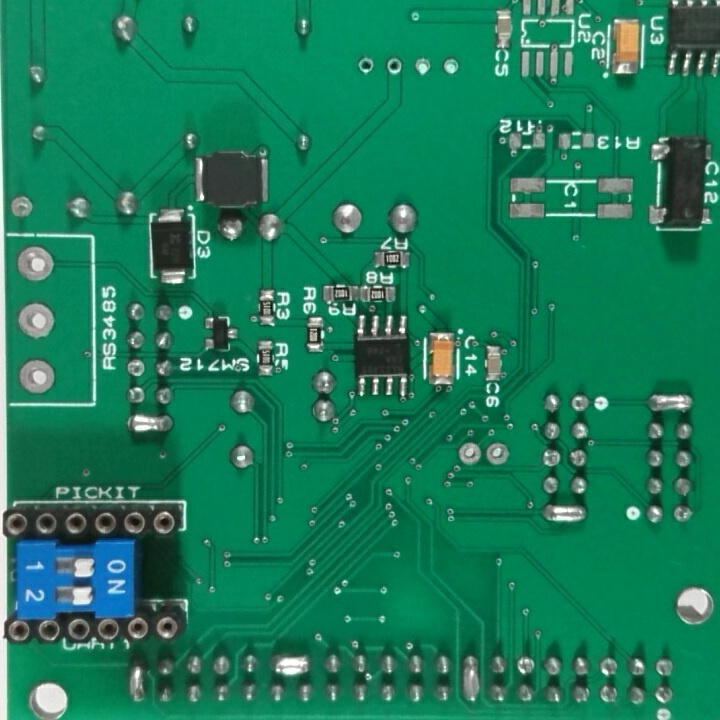F: (15, 297, 61, 341), (17, 357, 60, 400), (13, 242, 60, 281), (4, 190, 34, 223), (483, 438, 511, 467), (456, 438, 481, 469), (670, 502, 696, 527), (653, 680, 674, 710), (540, 447, 564, 473), (122, 358, 149, 381), (516, 652, 538, 680), (570, 393, 593, 416), (412, 55, 433, 80), (598, 683, 619, 707), (442, 55, 462, 79), (384, 55, 404, 78), (358, 58, 375, 76)
P: (123, 409, 179, 437), (645, 389, 698, 417), (458, 653, 483, 707), (269, 652, 316, 680), (537, 502, 590, 526), (125, 659, 148, 708)
